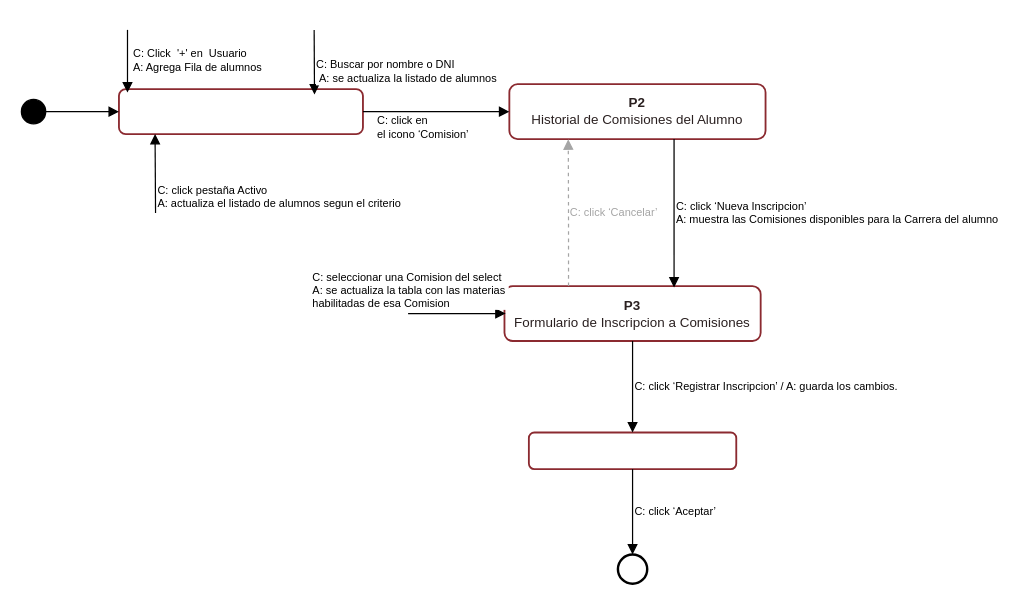
The diagram is 1020 pixels wide and 606 high, and some of its shapes have lost their labels. The shapes that lost their labels are listed below. From the top down, each one's box as (x1, y1, x2, y2) in pixels, then its label:
(117, 88, 363, 135): P1 Gestion de Alumnos
(527, 431, 737, 469): P4 Confirmacion
